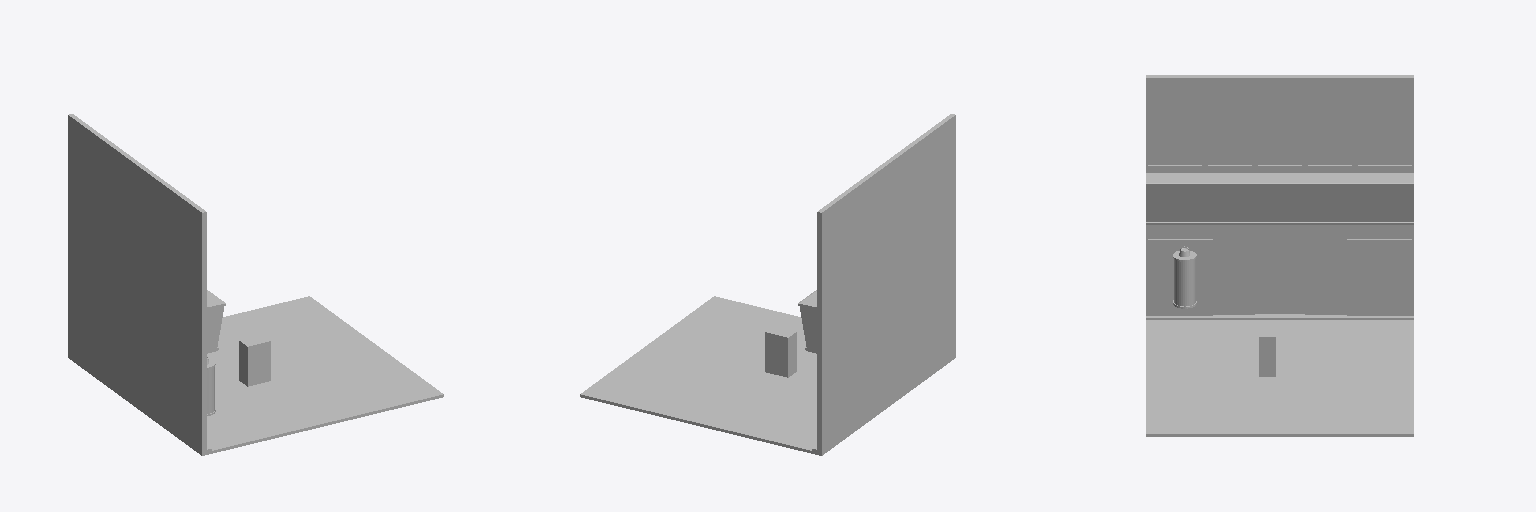
3 renders of one model, left to right at view 1: azimuth 30°, elevation 25°; view 2: azimuth 150°, elevation 25°; view 3: azimuth 270°, elevation 25°, orthographic.
Parts seen in each view (by area): view 1: BaseGround, CornorCurb.004, CornorCurb.002, CornorCurb.005, Human_Scale; view 2: BaseGround, CornorCurb.004, CornorCurb.002, CornorCurb.005, Human_Scale; view 3: BaseGround, CornorCurb.002, CornorCurb.004, CornorCurb.005, Cylinder, Human_Scale.
Boxes of the visible parts, x1,y1,x2,y2 form: BaseGround: [207, 296, 443, 453]; CornorCurb.004: [68, 257, 211, 455]; CornorCurb.002: [68, 114, 206, 308]; CornorCurb.005: [68, 211, 225, 354]; Human_Scale: [239, 335, 270, 386]; BaseGround: [580, 296, 816, 453]; CornorCurb.004: [812, 257, 955, 455]; CornorCurb.002: [817, 114, 955, 308]; CornorCurb.005: [798, 211, 955, 354]; Human_Scale: [765, 326, 796, 377]; BaseGround: [1146, 320, 1413, 436]; CornorCurb.002: [1146, 75, 1413, 172]; CornorCurb.004: [1146, 225, 1413, 319]; CornorCurb.005: [1146, 173, 1413, 224]; Cylinder: [1173, 246, 1196, 308]; Human_Scale: [1259, 326, 1275, 376].
Bounding box in the file's own units: 10.4 × 10 × 10.